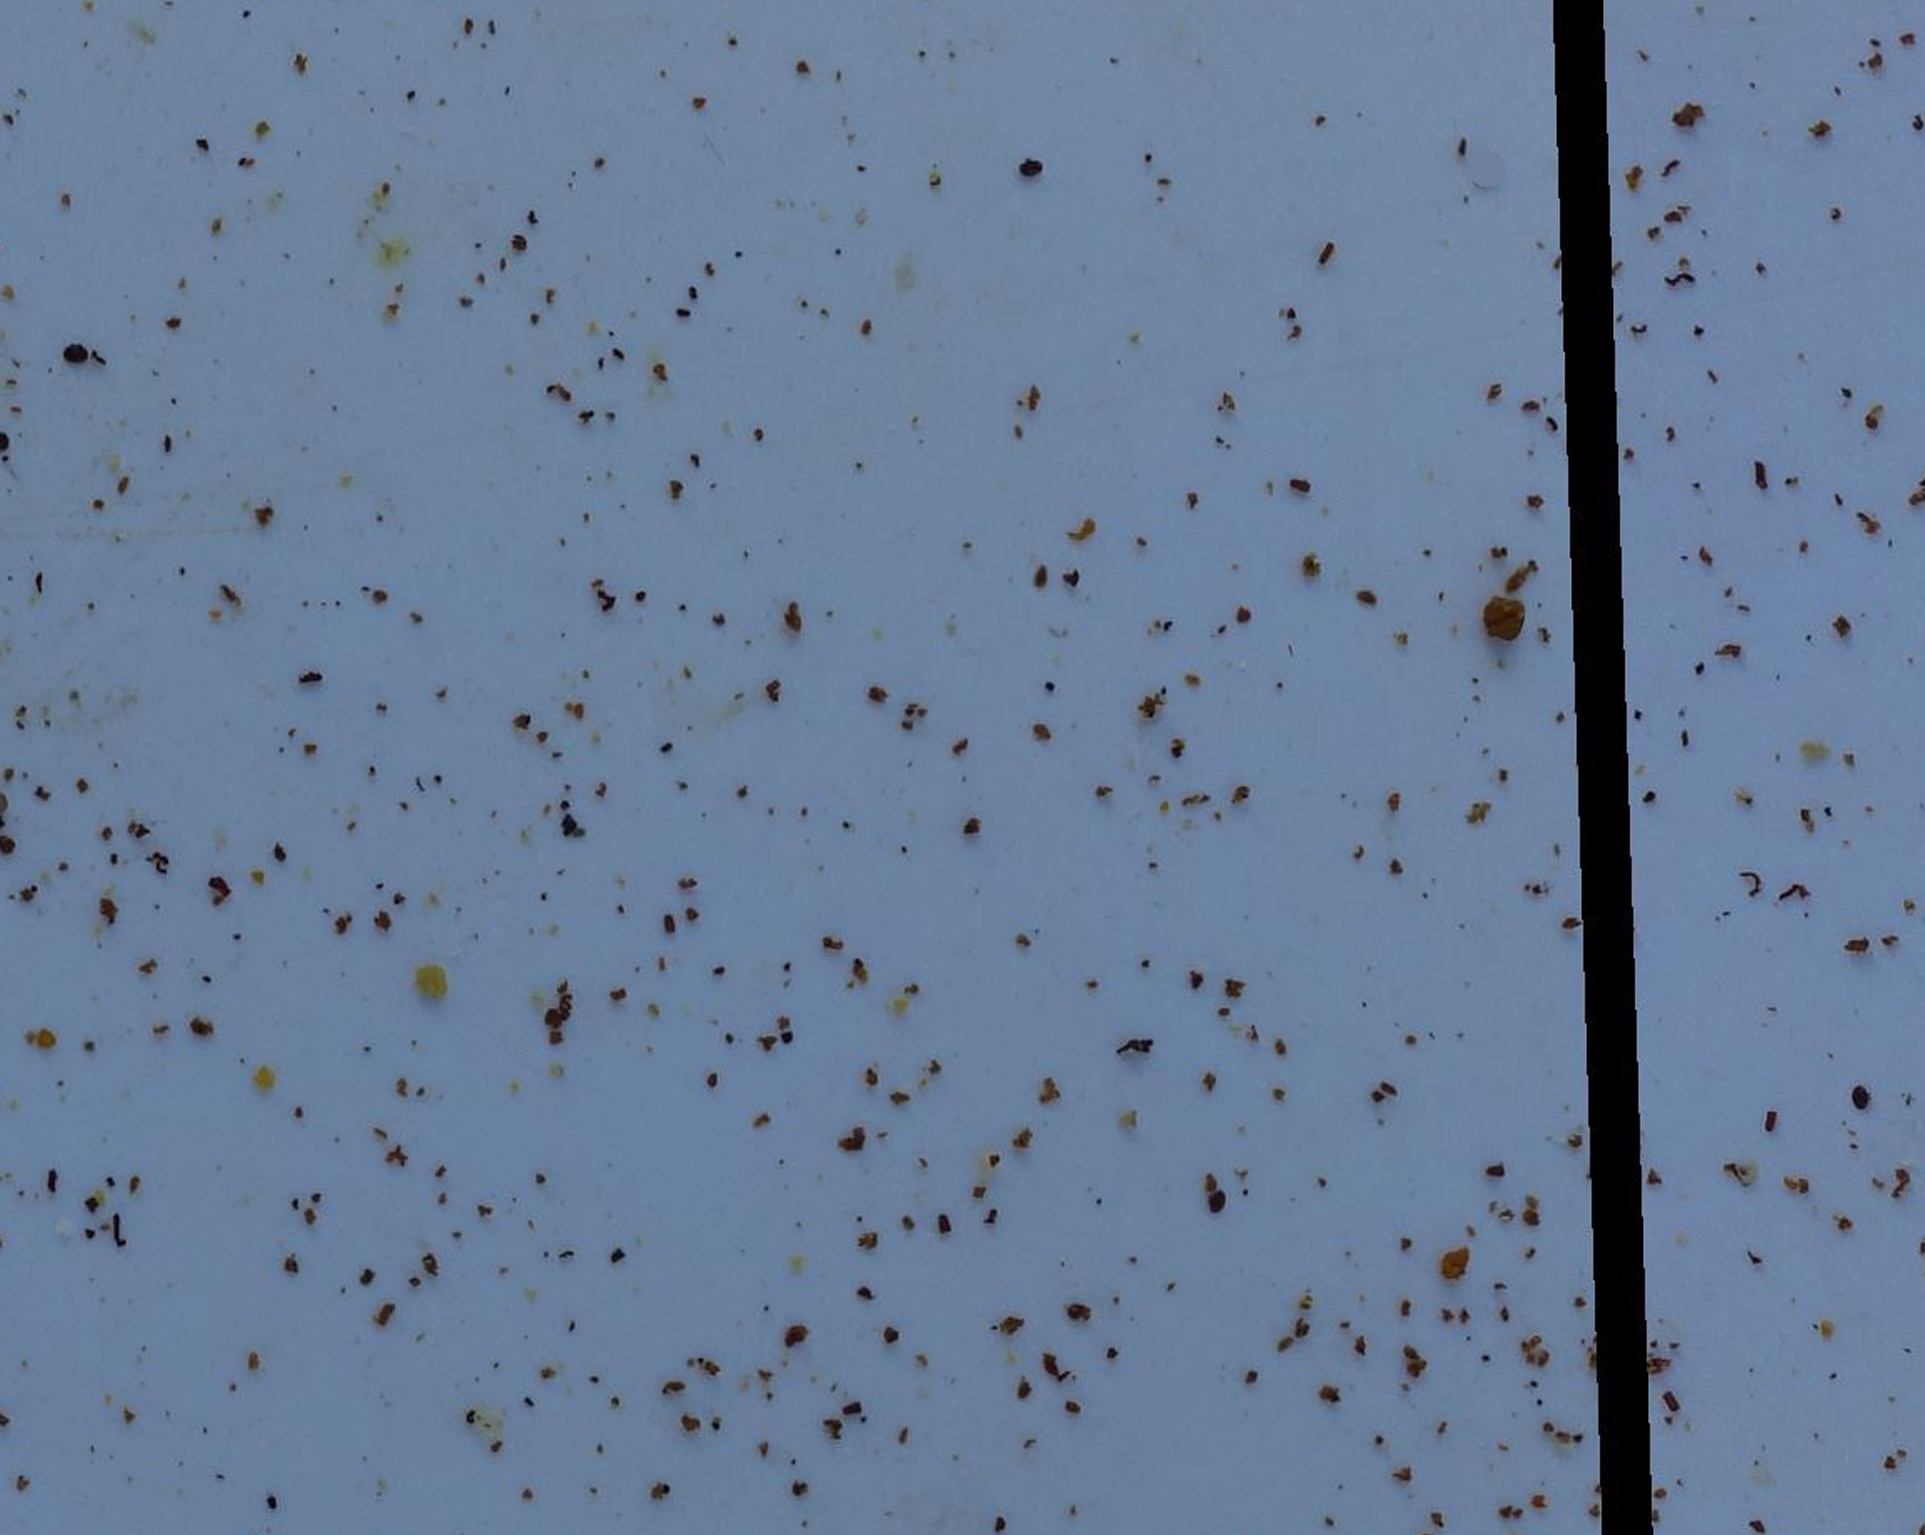Varroa: (1847, 1082, 1875, 1112), (63, 341, 91, 370), (1018, 152, 1046, 179), (1206, 1186, 1233, 1214)
